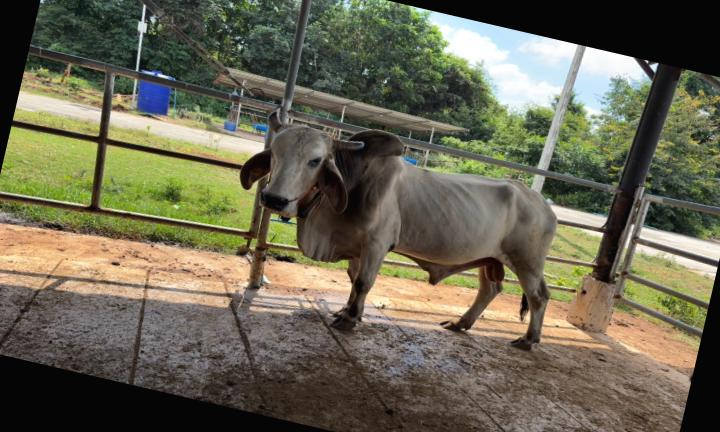Brahman: (240, 113, 556, 349)
